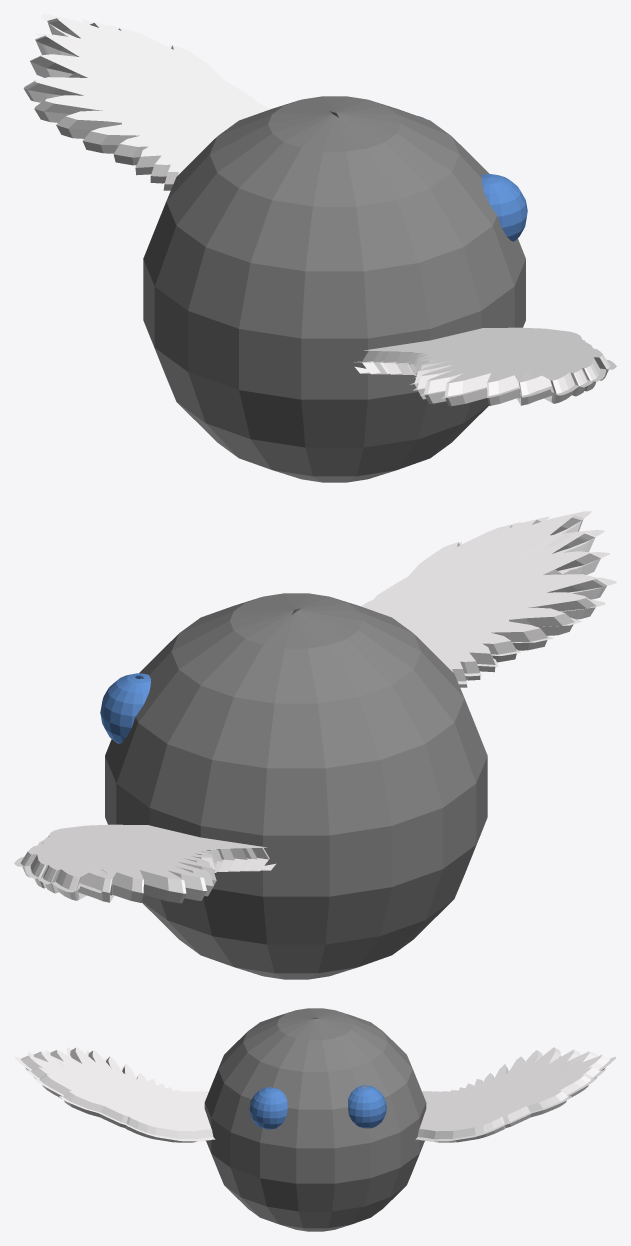
Rendered from Wing.fbx.
3 renders of one model, top to bottom at view 1: azimuth 30°, elevation 25°; view 2: azimuth 150°, elevation 25°; view 3: azimuth 270°, elevation 25°, orthographic. The views are drawn at different scales.
Parts seen in each view (by area): view 1: Sphere; view 2: Sphere; view 3: Sphere.
Part boxes in pixels (<box>): Sphere: <box>23,14,616,482</box>; Sphere: <box>14,511,616,979</box>; Sphere: <box>14,1008,616,1231</box>.
Size of the model in its own units: 194 by 200 by 536.
